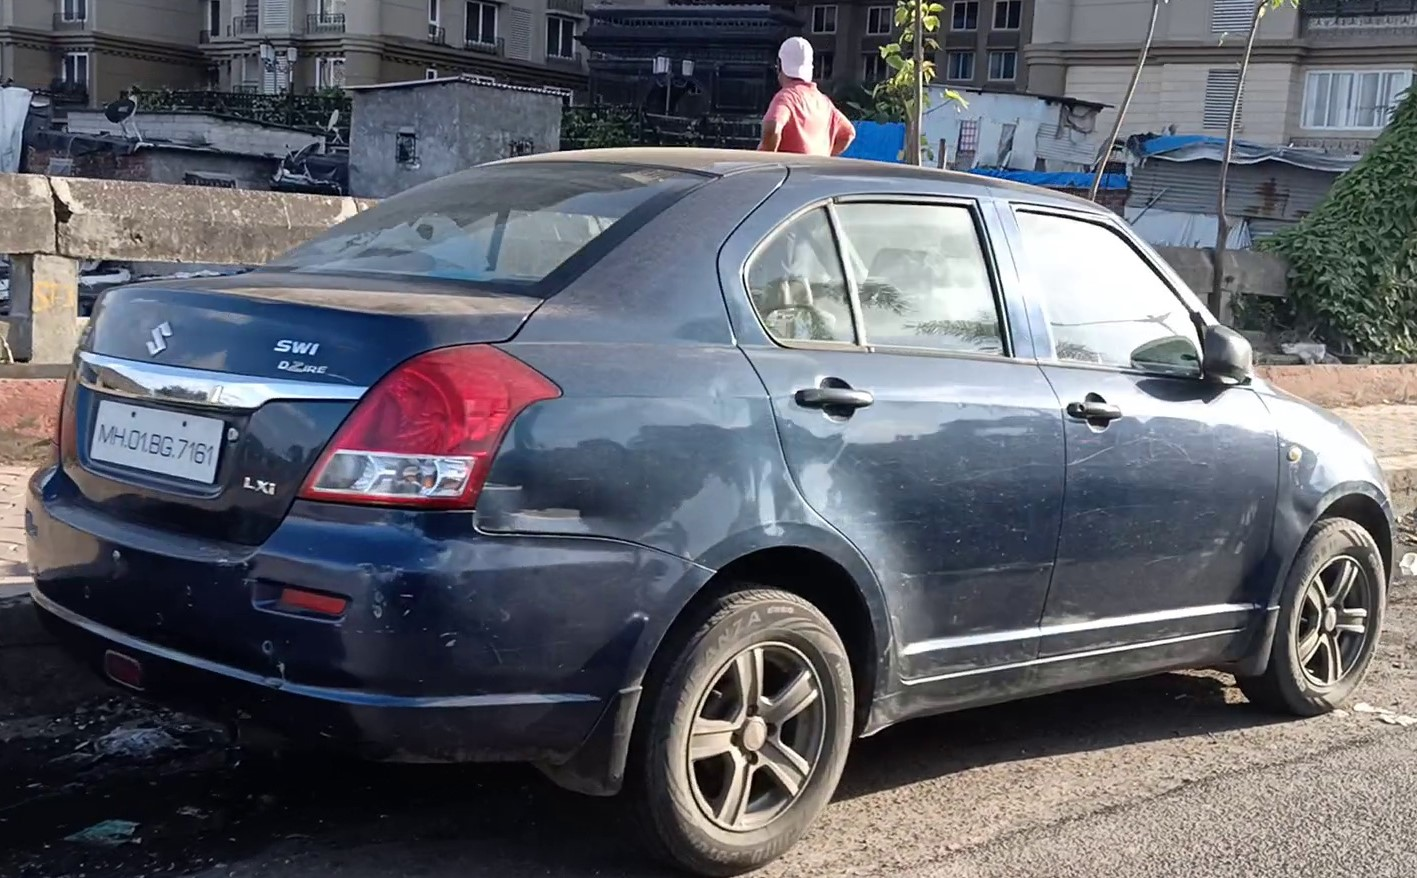MH01BG7161: (91, 399, 221, 487)
